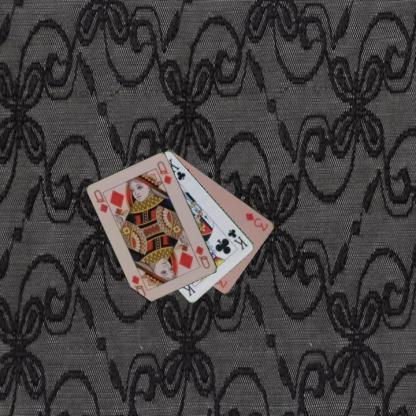3d: (242, 210, 270, 233)
Kc: (225, 226, 249, 252)
Qd: (91, 188, 114, 214), (193, 243, 211, 270)
